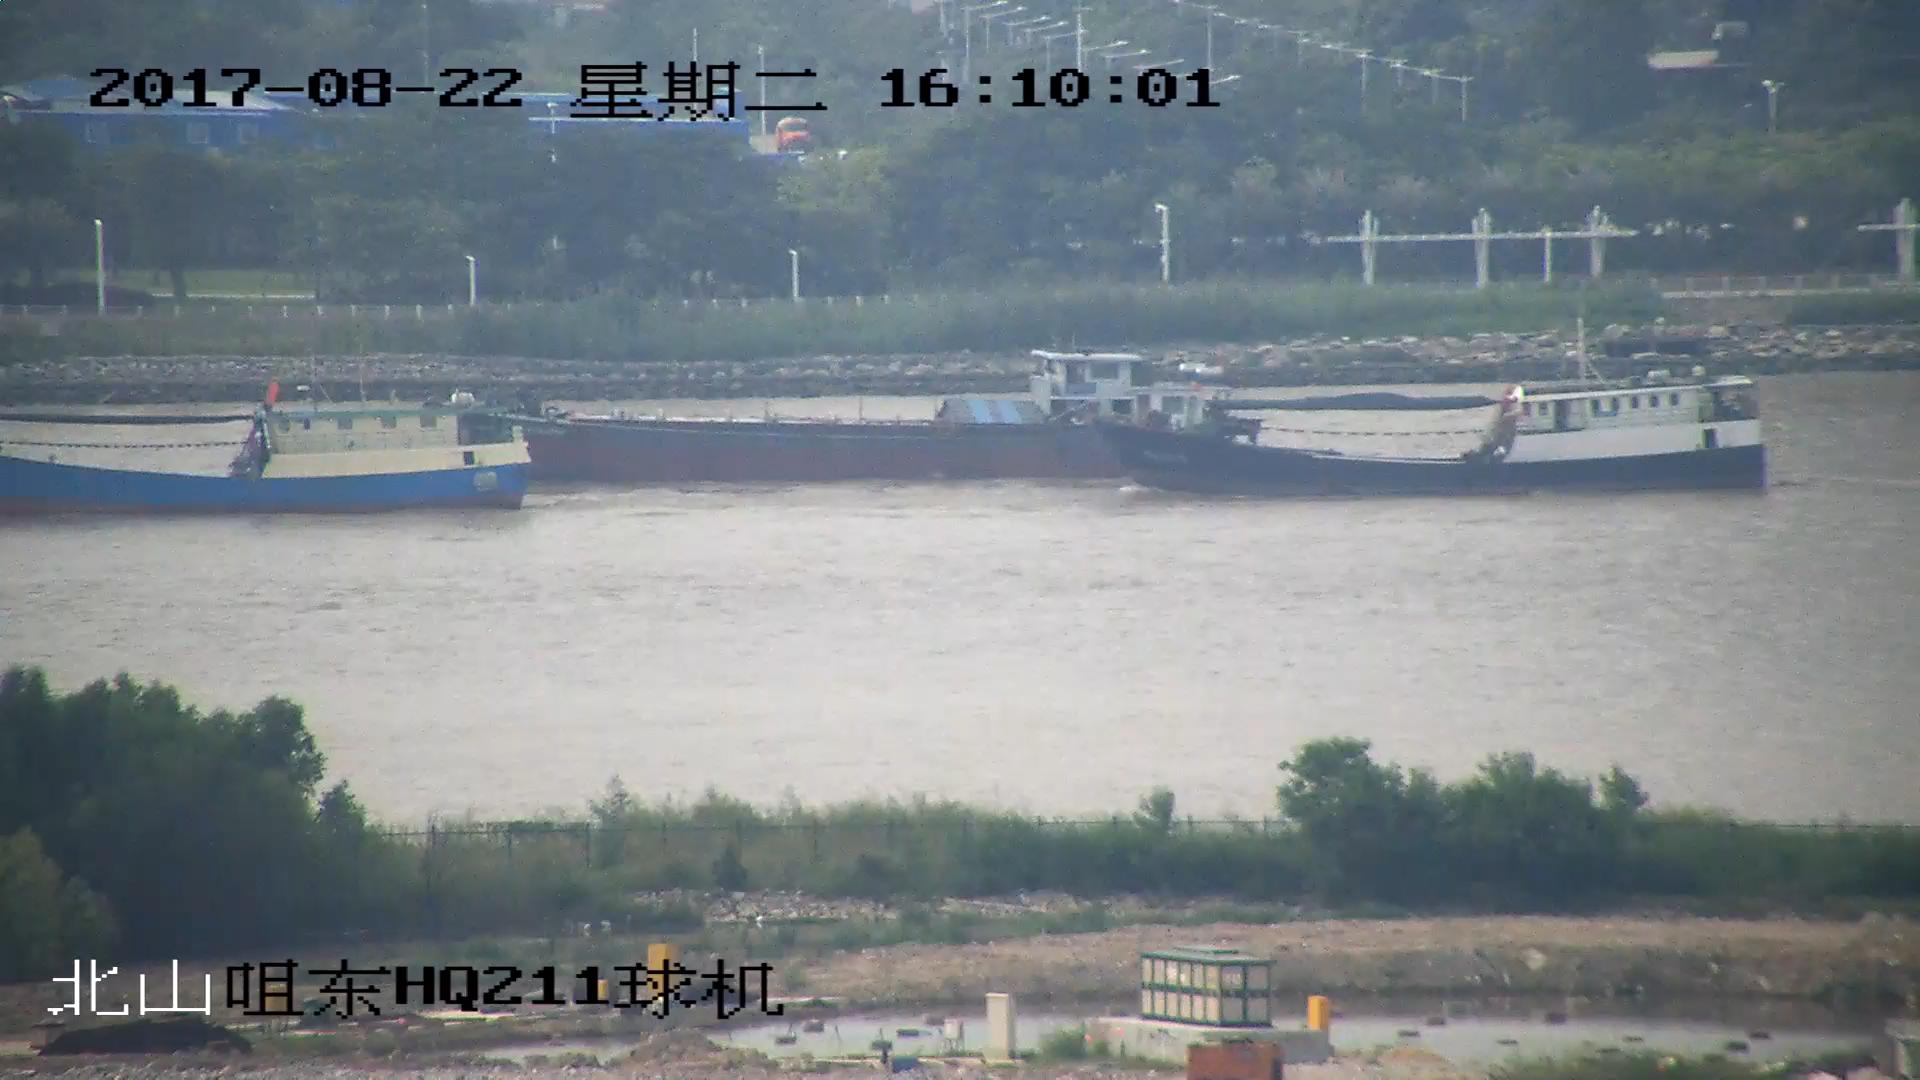bulk cargo carrier: (435, 350, 1261, 474)
fishing boat: (1097, 324, 1765, 501), (1, 380, 544, 520)
